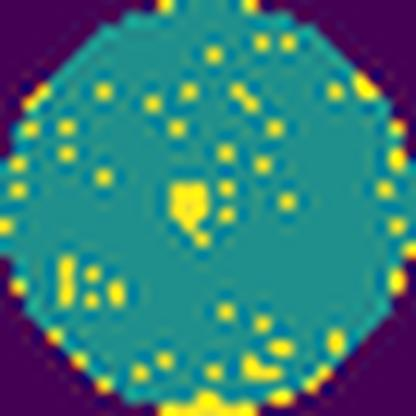Center: (162, 174, 222, 251)
